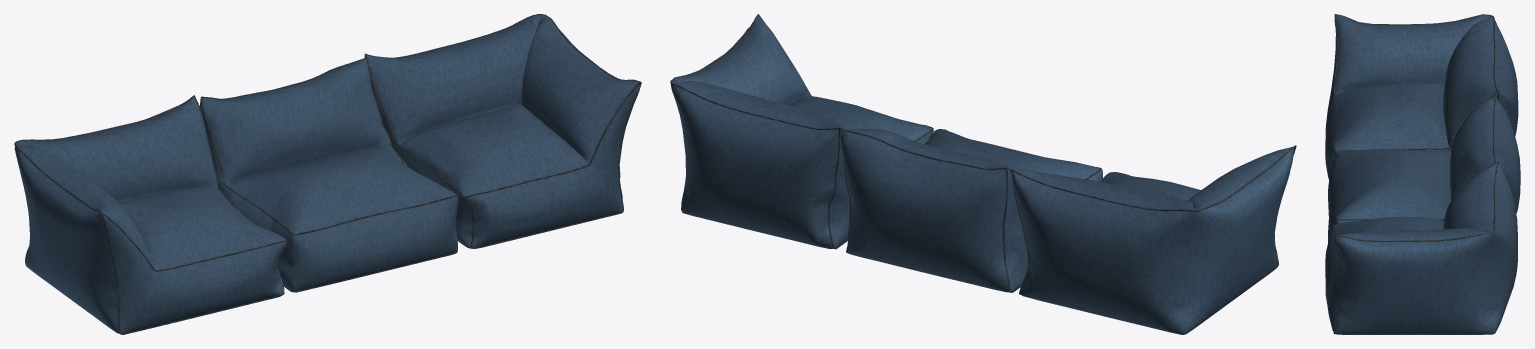
File: raw_model.obj
The picture shows the model from 3 angles, left to right: view 1: azimuth 30°, elevation 25°; view 2: azimuth 150°, elevation 25°; view 3: azimuth 270°, elevation 25°; orthographic projection. The views are drawn at different scales.
Visible parts, largest first — view 1: solid_001, solid_002, solid_003; view 2: solid_001, solid_002, solid_003; view 3: solid_001, solid_002, solid_003.
Part boxes in pixels (x1,y1,x2,y2): solid_001: (14,15,639,333); solid_002: (200,58,457,291); solid_003: (14,14,641,334); solid_001: (671,15,1294,334); solid_002: (842,128,1102,292); solid_003: (670,14,1296,294); solid_001: (1325,15,1518,334); solid_002: (1328,95,1520,242); solid_003: (1333,14,1499,334).
Bounding box in the file's own units: 2.98 × 0.6652 × 1.09.
1 material, 1 textured.
